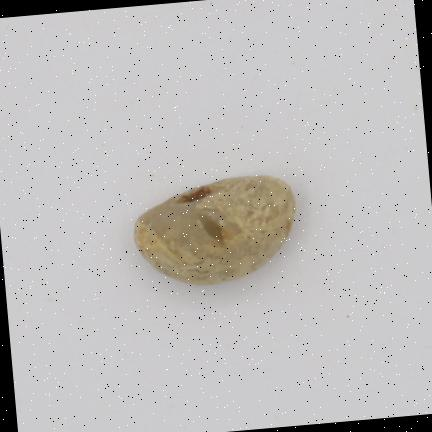shell: (135, 177, 294, 283)
